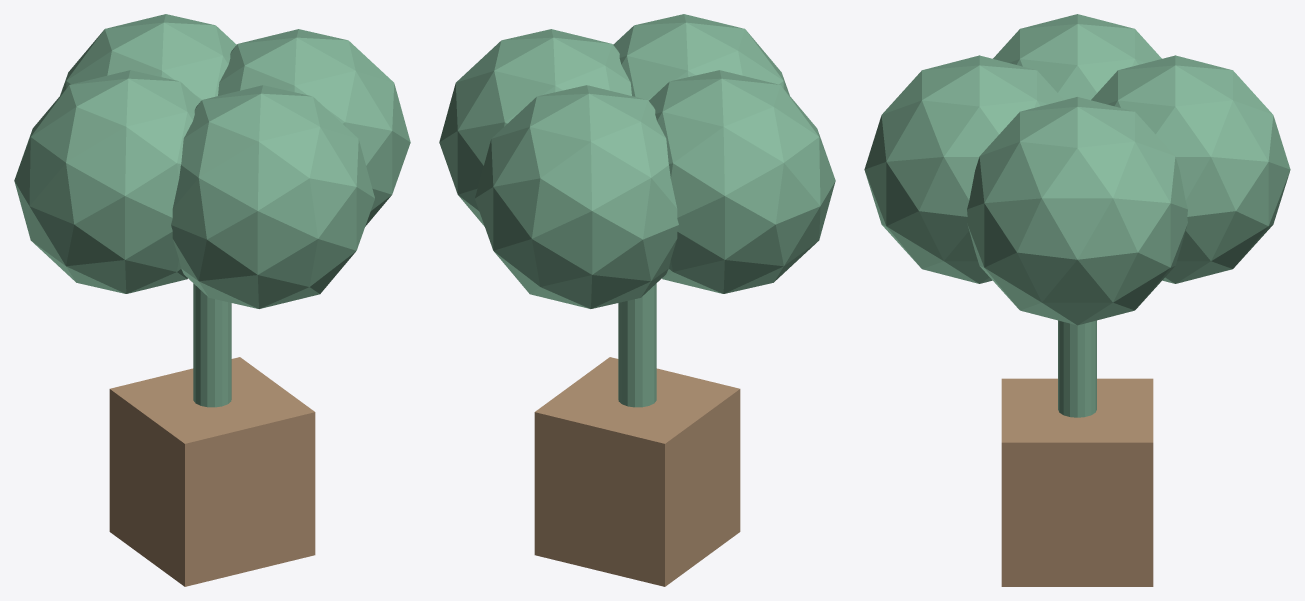
Rendered from potted-plant.glb.
3 views of the same model, side by side, from view 1: azimuth 30°, elevation 25°; view 2: azimuth 150°, elevation 25°; view 3: azimuth 270°, elevation 25° (orthographic).
Visible parts, largest first — view 1: world; view 2: world; view 3: world.
Part boxes in pixels (box(x1,y1,x2,y2)): world: box(14, 14, 410, 586); world: box(439, 14, 835, 586); world: box(864, 14, 1290, 586).
Bounding box in the file's own units: 1.74 × 2.21 × 1.74.
